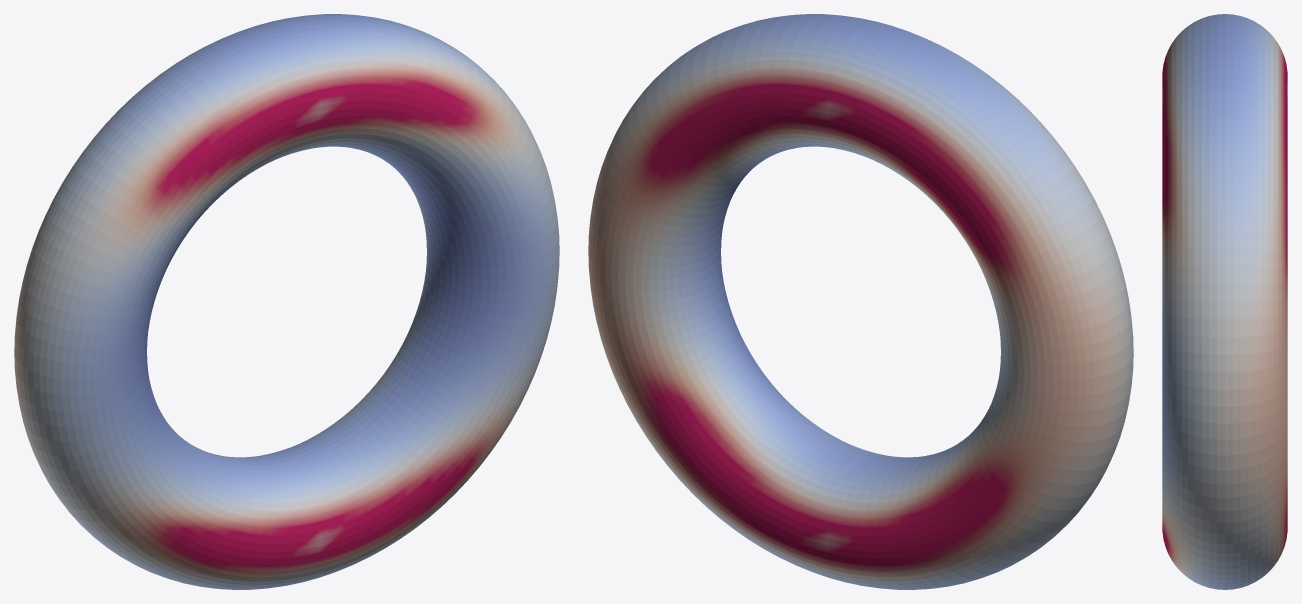
3 views of the same model, side by side, from view 1: azimuth 30°, elevation 25°; view 2: azimuth 150°, elevation 25°; view 3: azimuth 270°, elevation 25° (orthographic). The views are drawn at different scales.
Parts seen in each view (by area): view 1: world; view 2: world; view 3: world.
Boxes of the visible parts, <box> form: world: <box>14,14,559,589</box>; world: <box>588,14,1133,589</box>; world: <box>1162,14,1287,589</box>.
Size of the model in its own units: 23.87 by 23.87 by 5.19.
